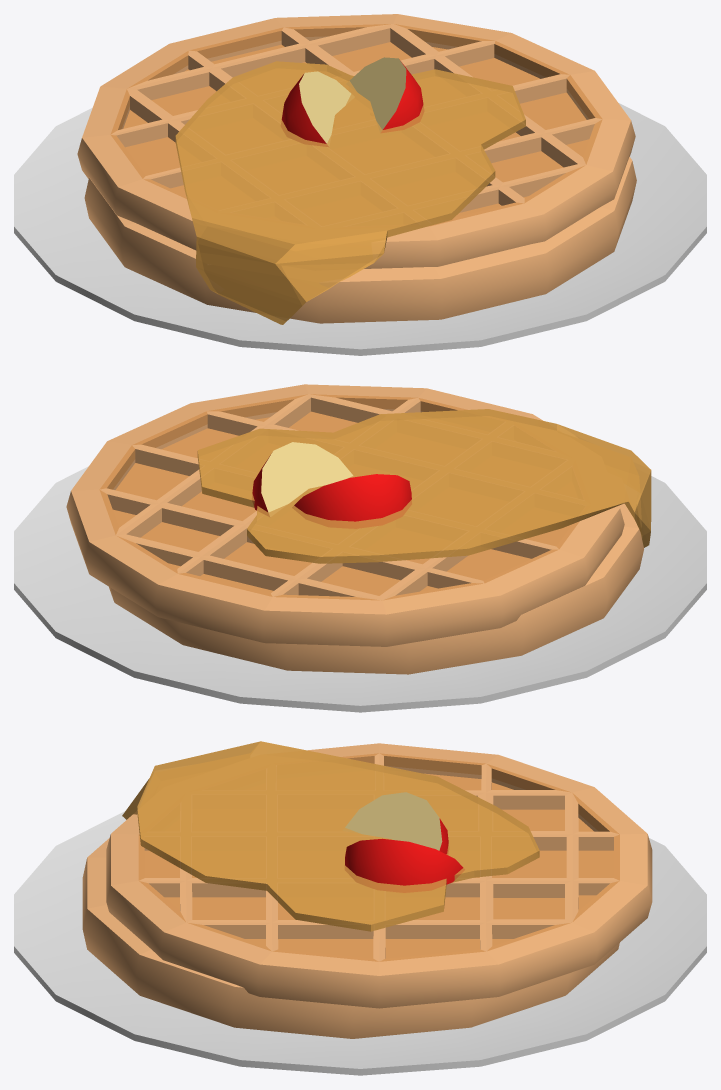
Rendered from f03_waffle2.FBX.
3 views of the same model, one above another, from view 1: azimuth 30°, elevation 25°; view 2: azimuth 150°, elevation 25°; view 3: azimuth 270°, elevation 25° (orthographic).
Parts seen in each view (by area): view 1: Cylinder001 (×2), Cylinder002, Cylinder003, Sphere001, Sphere004; view 2: Cylinder002, Cylinder001 (×2), Cylinder003, Sphere004, Sphere001; view 3: Cylinder002, Cylinder001 (×2), Cylinder003, Sphere001, Sphere004.
Boxes of the visible parts, bbox=[...] form: Cylinder001 (×2): bbox=[14, 103, 706, 355]; Cylinder002: bbox=[77, 14, 635, 268]; Cylinder003: bbox=[175, 61, 525, 324]; Sphere001: bbox=[347, 57, 423, 132]; Sphere004: bbox=[281, 71, 353, 146]; Cylinder002: bbox=[66, 384, 624, 646]; Cylinder001 (×2): bbox=[14, 466, 706, 712]; Cylinder003: bbox=[197, 409, 651, 563]; Sphere004: bbox=[292, 474, 411, 528]; Sphere001: bbox=[252, 442, 353, 516]; Cylinder002: bbox=[106, 743, 652, 1008]; Cylinder001 (×2): bbox=[14, 811, 706, 1075]; Cylinder003: bbox=[122, 741, 539, 931]; Sphere001: bbox=[345, 838, 464, 892]; Sphere004: bbox=[343, 792, 448, 854].
Size of the model in its own units: 160 by 35.04 by 157.
